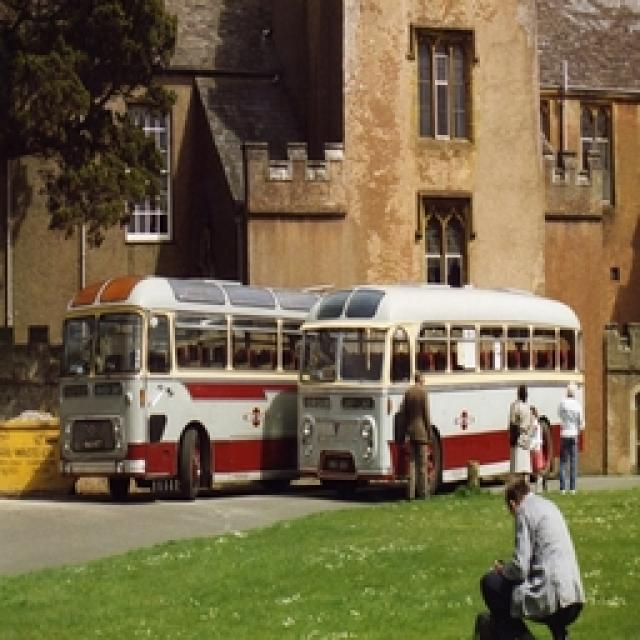Abbey: (1, 1, 640, 338)
